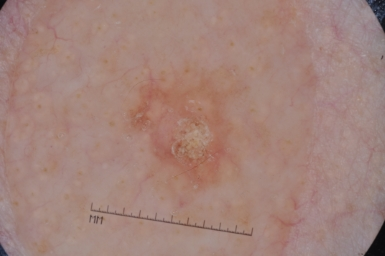seborrheic keratosis: (114, 66, 252, 198)
